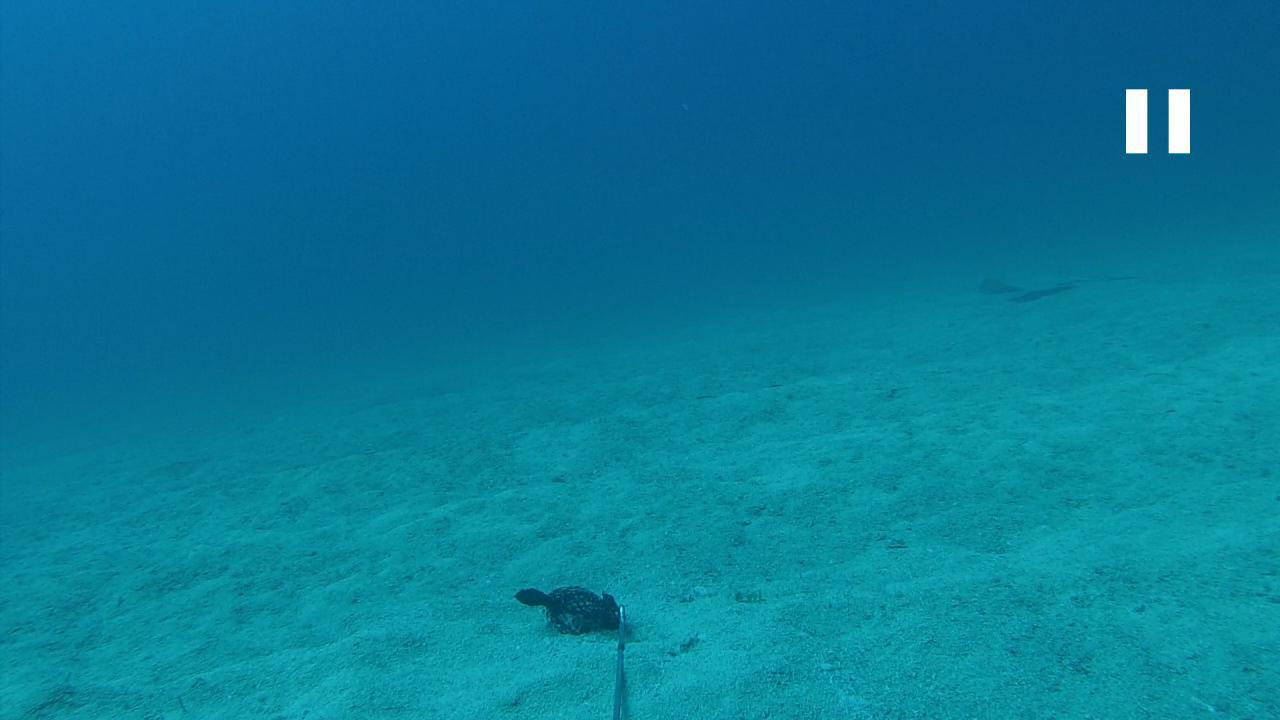dasyatis: (978, 270, 1148, 298)
